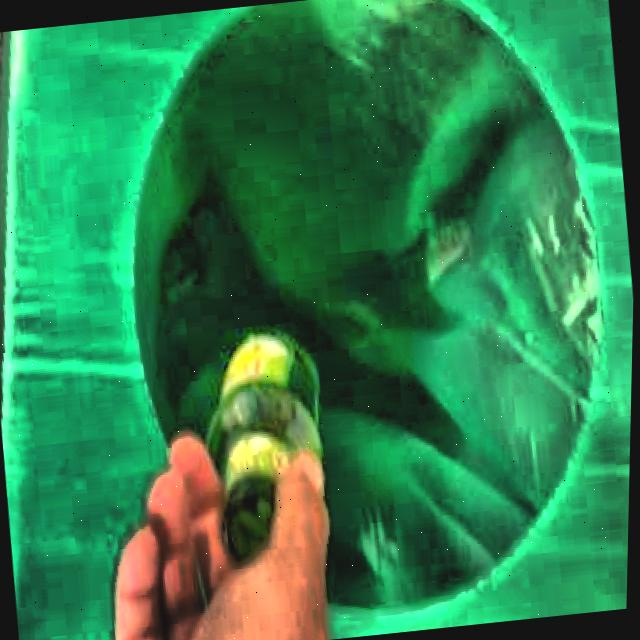glass: (208, 335, 320, 564)
